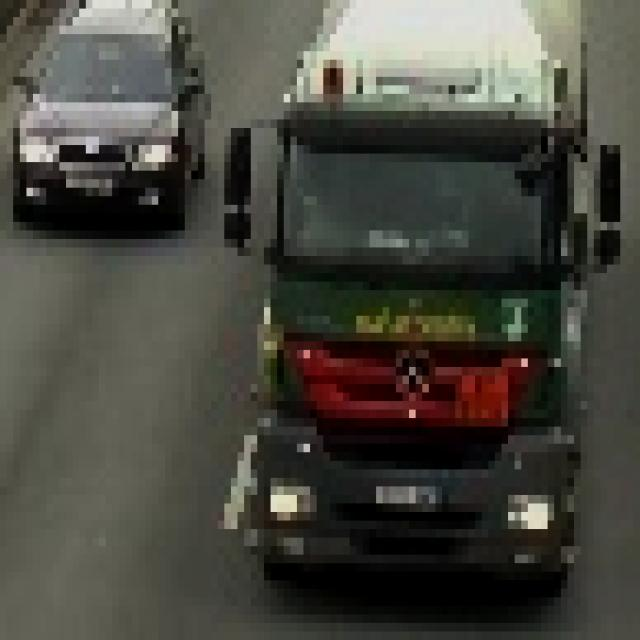truck: (219, 1, 621, 590)
